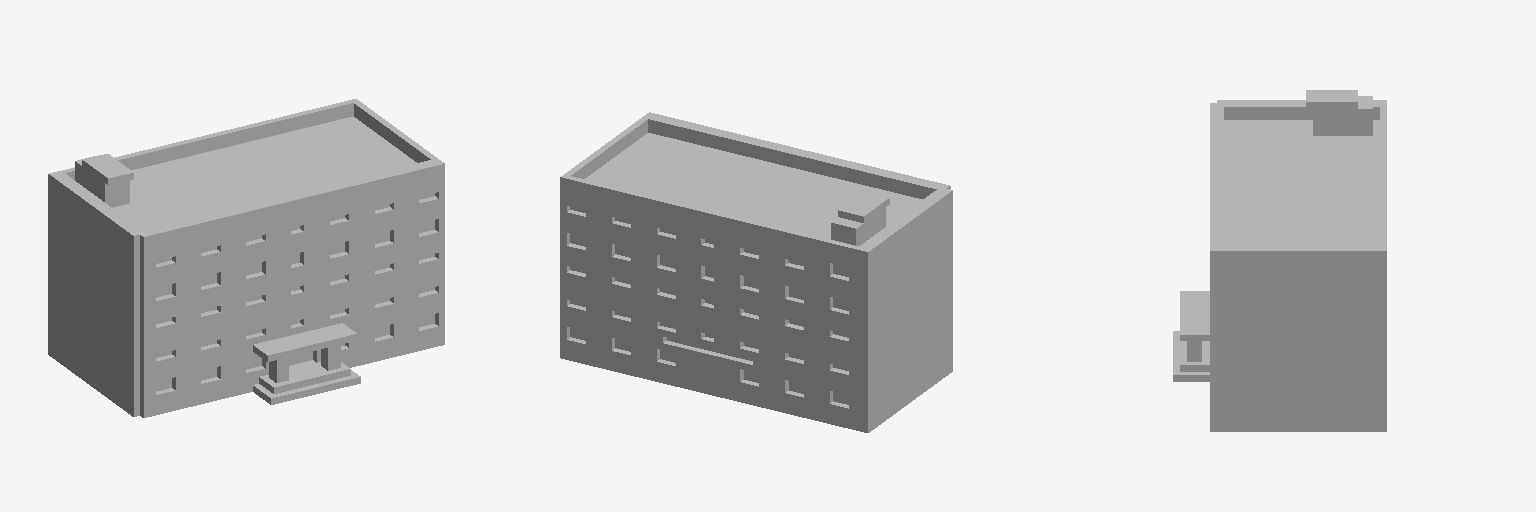
The model's file is edificio.obj.
3 views of the same model, side by side, from view 1: azimuth 30°, elevation 25°; view 2: azimuth 150°, elevation 25°; view 3: azimuth 270°, elevation 25° (orthographic).
Visible parts, largest first — view 1: object 1; view 2: object 1; view 3: object 1.
Boxes of the visible parts, x1,y1,x2,y2 form: object 1: [48, 99, 444, 417]; object 1: [560, 112, 952, 432]; object 1: [1173, 90, 1386, 431].
Size of the model in its own units: 4.8 by 3 by 2.9.